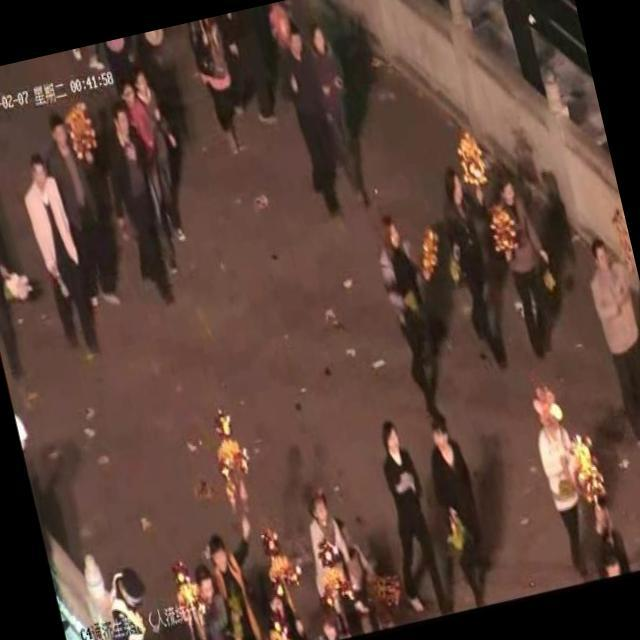person: (366, 199, 461, 425), (430, 157, 526, 380), (12, 144, 110, 360), (365, 204, 462, 418), (367, 412, 459, 626), (514, 385, 604, 593), (270, 8, 355, 227), (484, 167, 576, 364), (36, 109, 123, 308), (417, 406, 501, 612), (100, 104, 180, 311), (300, 5, 376, 212), (571, 225, 640, 452), (127, 54, 202, 252), (114, 75, 188, 274), (198, 501, 281, 640), (185, 14, 256, 163), (297, 486, 360, 640), (330, 510, 393, 640), (215, 7, 280, 126), (488, 0, 553, 103), (574, 484, 636, 581), (94, 563, 171, 640), (171, 555, 240, 640), (254, 563, 311, 640)
